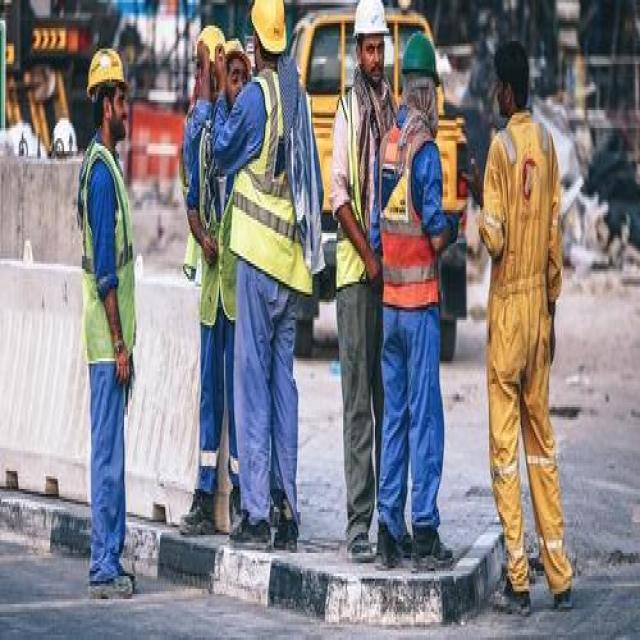Reflective-Jacket: (228, 72, 314, 294), (75, 138, 141, 366), (379, 123, 441, 312), (334, 84, 388, 292)
Safety-Helmet: (84, 38, 130, 98), (399, 28, 447, 82), (248, 0, 287, 56), (351, 0, 390, 41)
